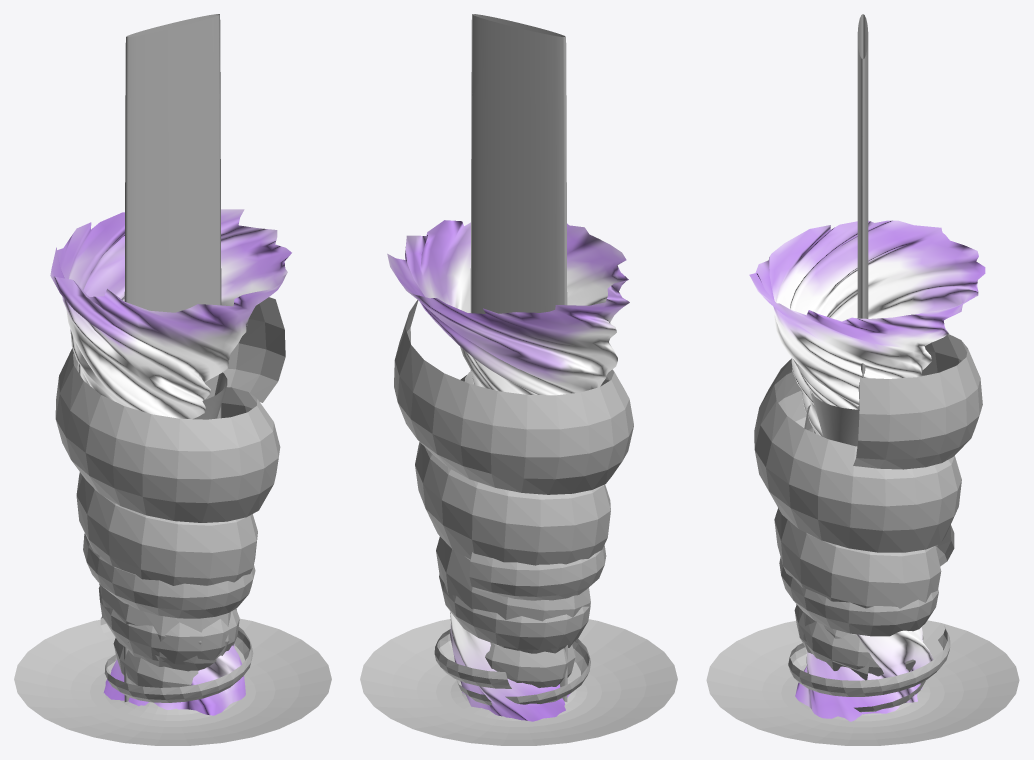
The model's file is pref_fx_returnhome_01_003802_lv1.fbx.
The picture shows the model from 3 angles, left to right: view 1: azimuth 30°, elevation 25°; view 2: azimuth 150°, elevation 25°; view 3: azimuth 270°, elevation 25°; orthographic projection.
Visible parts, largest first — view 1: sm_wind_blue_chong_02, sm_wind_zhu_chong_add, sm_cylinder_violet, sm_kuosan_blue_chong, sm_wind_blue, sm_wind_violet_blend, sm_wind_blue_chong_01; view 2: sm_wind_blue_chong_02, sm_cylinder_violet, sm_wind_zhu_chong_add, sm_kuosan_blue_chong, sm_wind_blue, sm_wind_violet_blend; view 3: sm_wind_blue_chong_02, sm_wind_zhu_chong_add, sm_kuosan_blue_chong, sm_wind_blue, sm_cylinder_violet, sm_wind_violet_blend, sm_wind_blue_chong_01.
Boxes of the visible parts, x1,y1,x2,y2 form: sm_wind_blue_chong_02: (55, 297, 285, 671); sm_wind_zhu_chong_add: (50, 209, 291, 715); sm_cylinder_violet: (124, 14, 221, 701); sm_kuosan_blue_chong: (14, 618, 331, 745); sm_wind_blue: (83, 533, 255, 687); sm_wind_violet_blend: (100, 616, 253, 702); sm_wind_blue_chong_01: (193, 372, 227, 419); sm_wind_blue_chong_02: (394, 300, 633, 653); sm_cylinder_violet: (470, 14, 567, 701); sm_wind_zhu_chong_add: (387, 220, 629, 721); sm_kuosan_blue_chong: (360, 619, 677, 745); sm_wind_blue: (439, 545, 606, 687); sm_wind_violet_blend: (434, 629, 590, 705); sm_wind_blue_chong_02: (754, 334, 982, 680); sm_wind_zhu_chong_add: (749, 220, 985, 721); sm_kuosan_blue_chong: (706, 620, 1019, 745); sm_wind_blue: (779, 525, 954, 676); sm_cylinder_violet: (857, 14, 868, 409); sm_wind_violet_blend: (788, 626, 950, 712); sm_wind_blue_chong_01: (809, 389, 859, 446).
Size of the model in its own units: 7.12 by 17.21 by 7.16.
